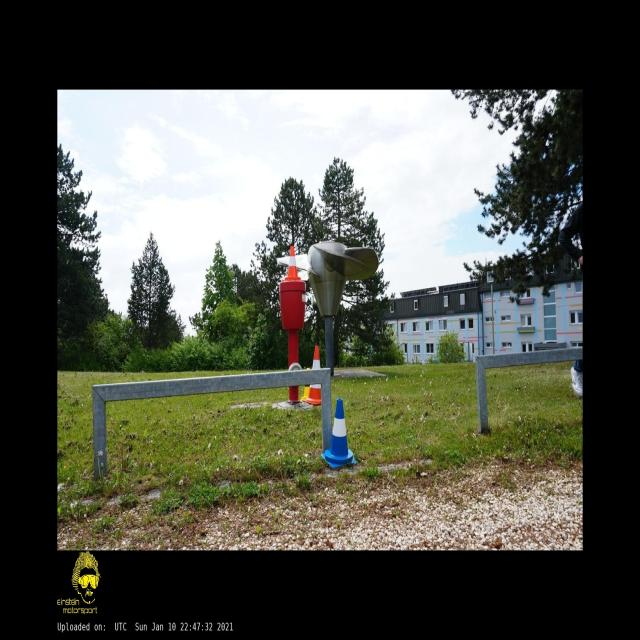blue_cone: (321, 398, 357, 468)
large_orange_cone: (307, 346, 322, 405)
orange_cone: (285, 246, 301, 280)
yellow_cone: (301, 368, 310, 399)
